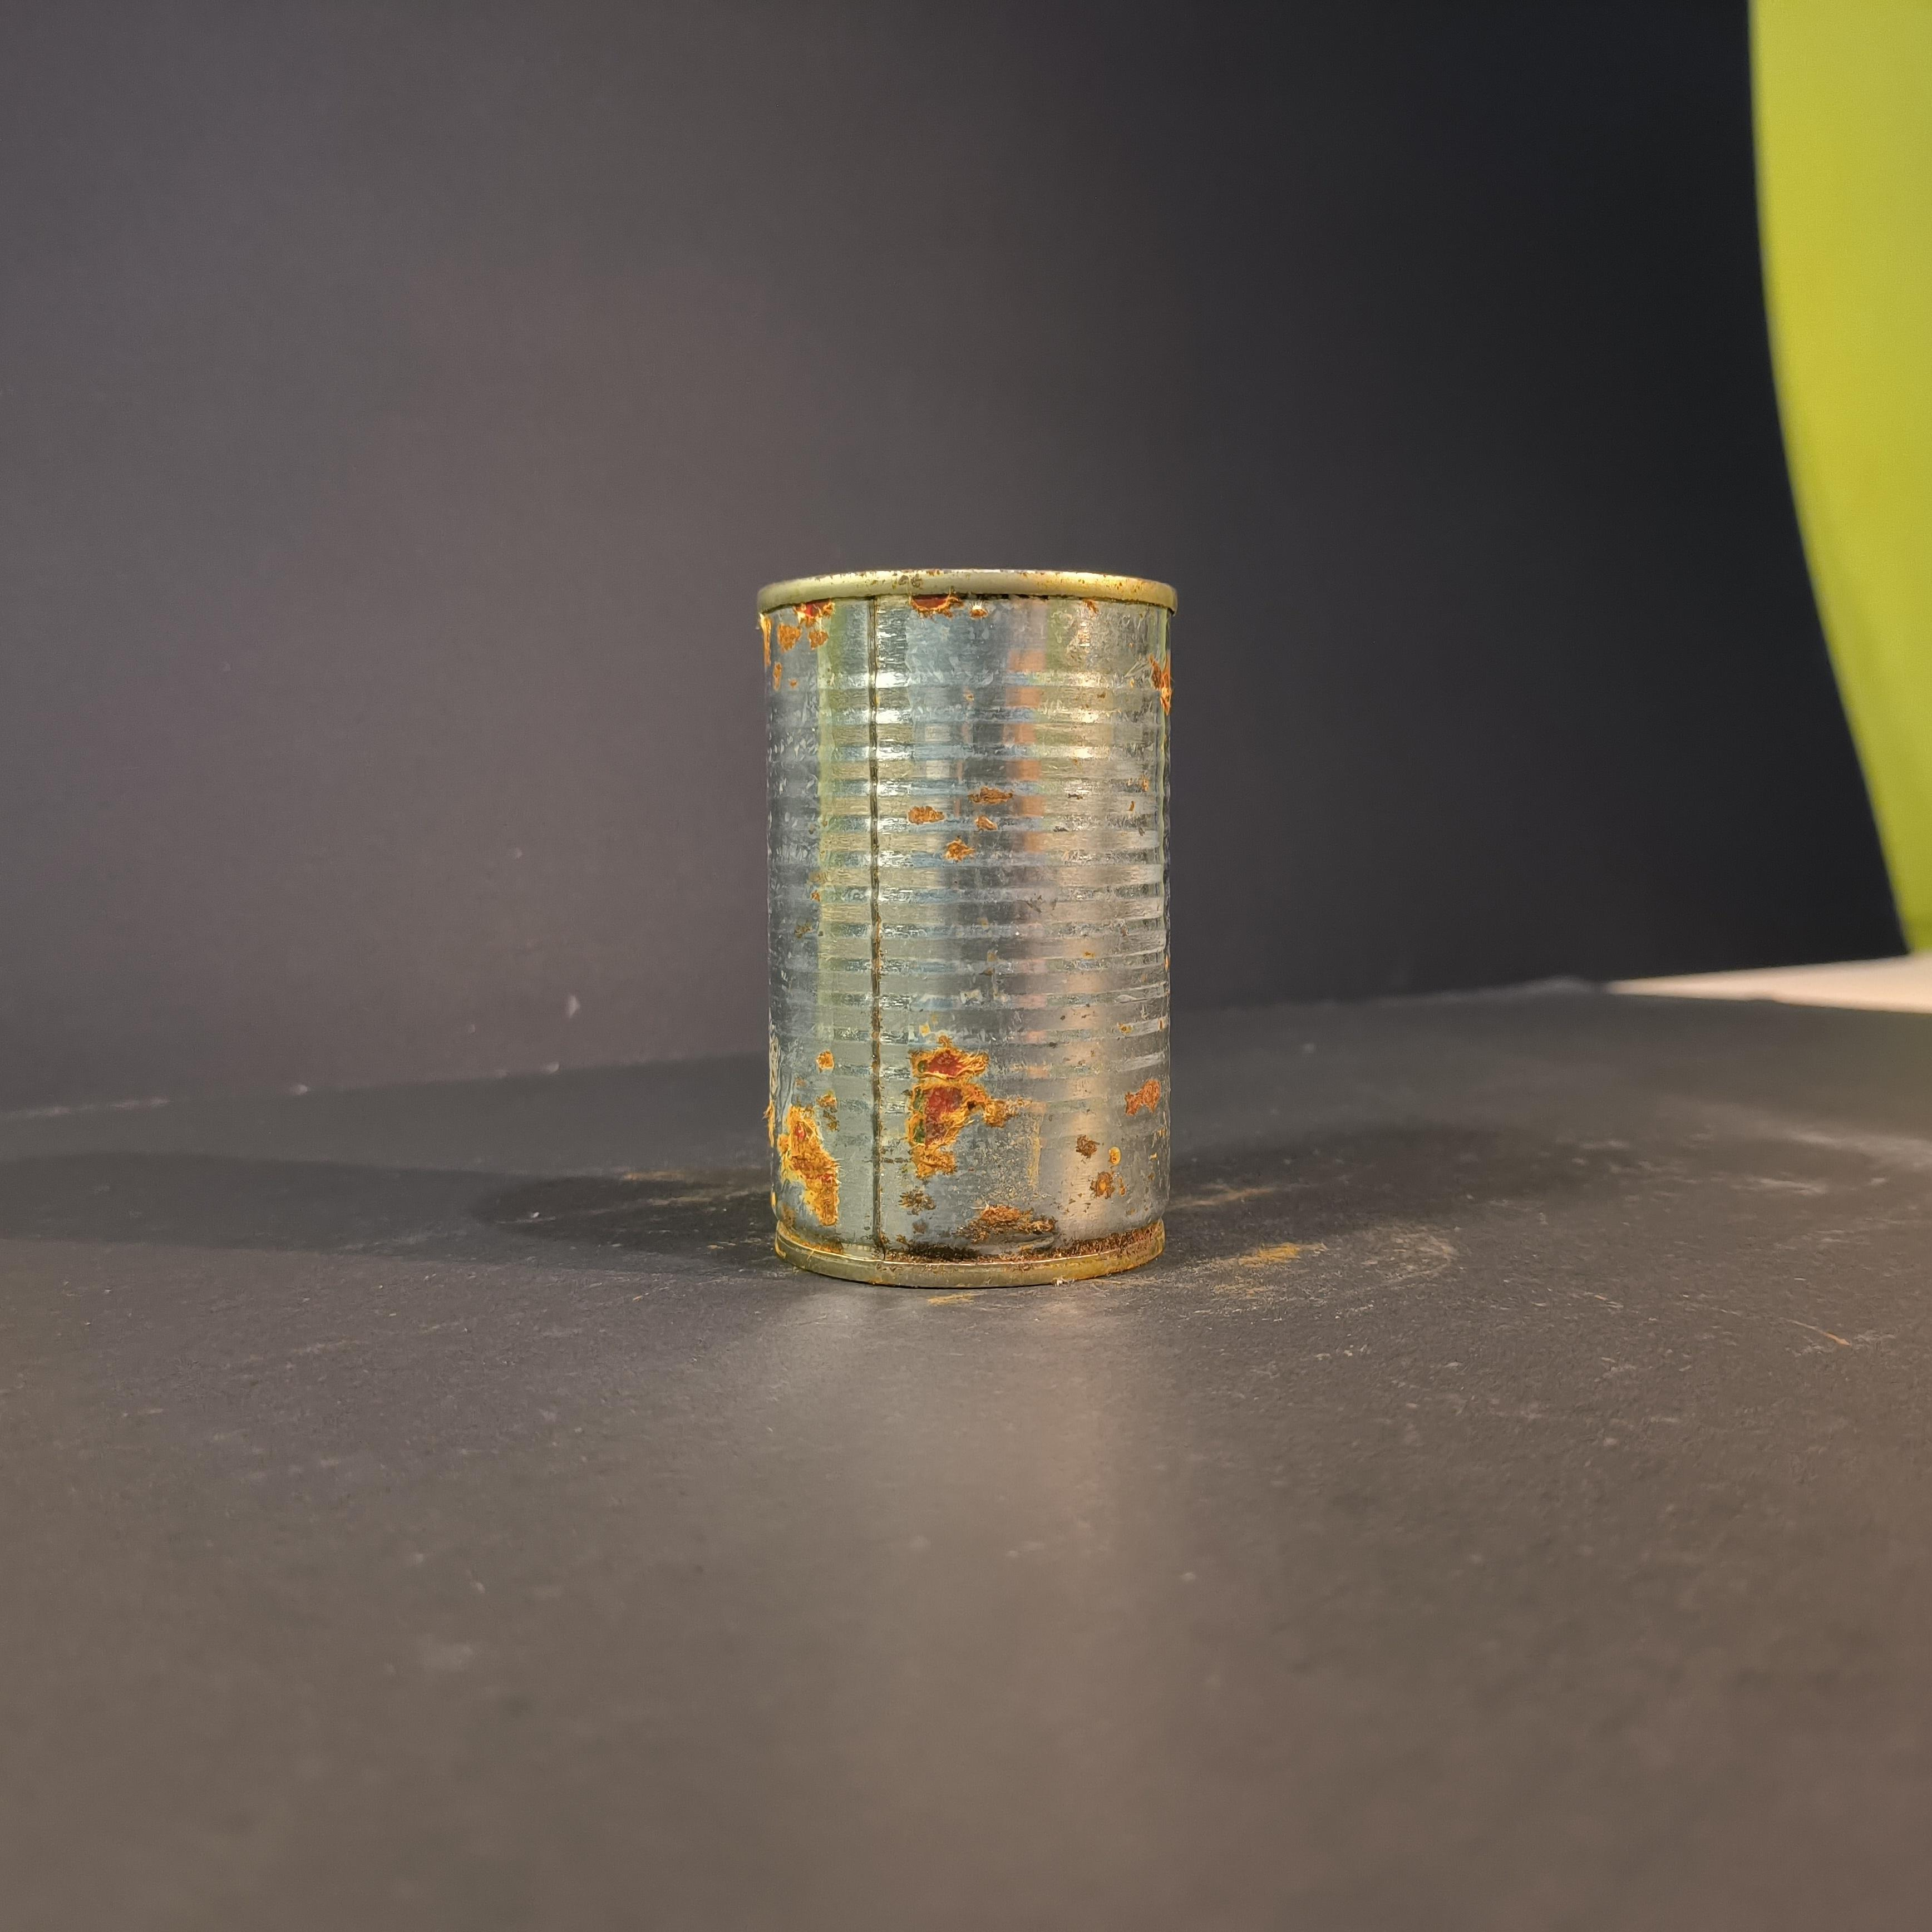Rusted: (734, 543, 1191, 1292)
